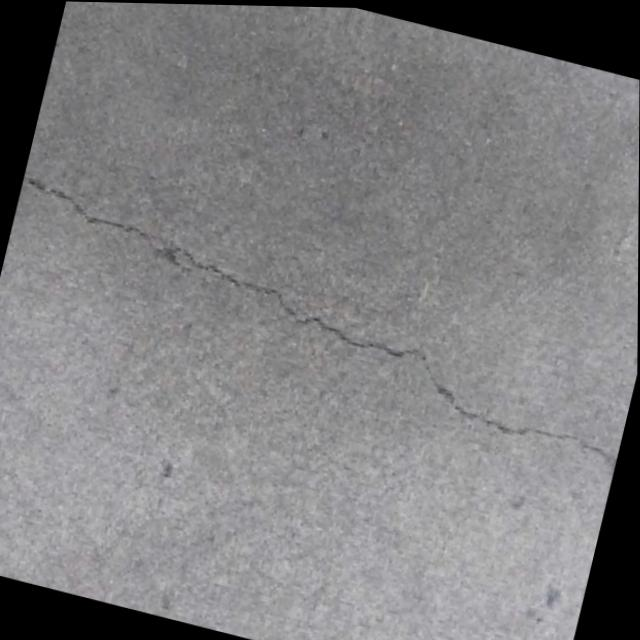Crack: (0, 150, 639, 498)
